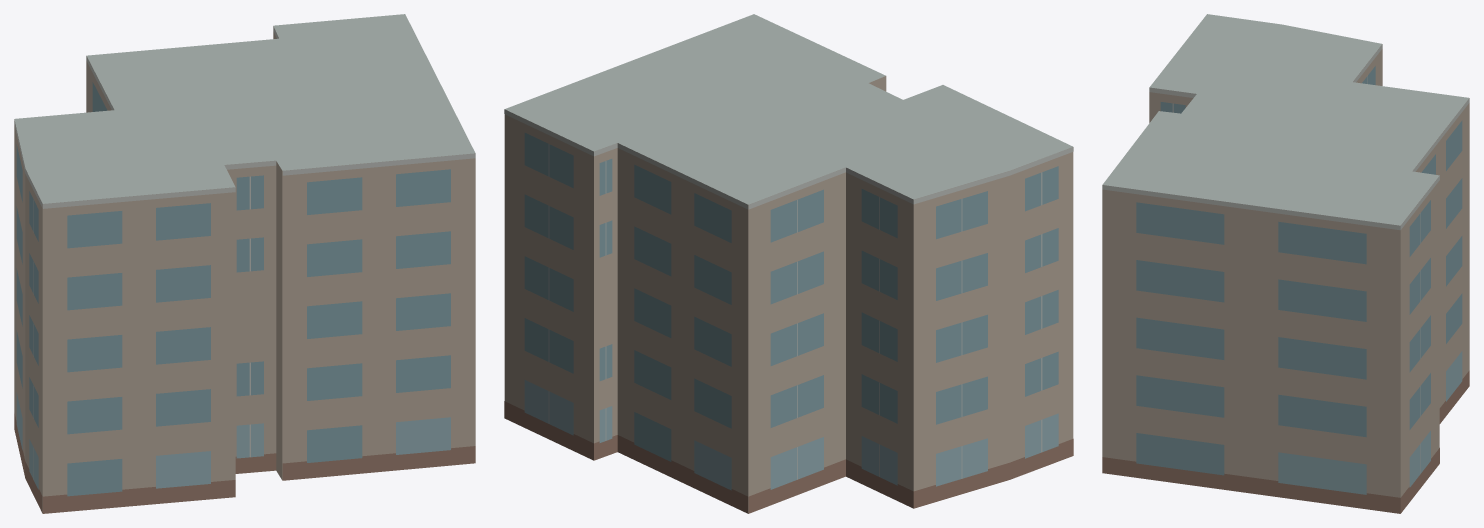
The model's file is survey-upis-32644918.glb.
The picture shows the model from 3 angles, left to right: view 1: azimuth 30°, elevation 25°; view 2: azimuth 150°, elevation 25°; view 3: azimuth 270°, elevation 25°; orthographic projection. The views are drawn at different scales.
Parts seen in each view (by area): view 1: survey-upis-32644918.tmp; view 2: survey-upis-32644918.tmp; view 3: survey-upis-32644918.tmp.
Boxes of the visible parts, <box> form: survey-upis-32644918.tmp: <box>14,14,475,513</box>; survey-upis-32644918.tmp: <box>504,14,1073,513</box>; survey-upis-32644918.tmp: <box>1102,14,1469,513</box>.
Size of the model in its own units: 24.03 by 15.25 by 17.62.
